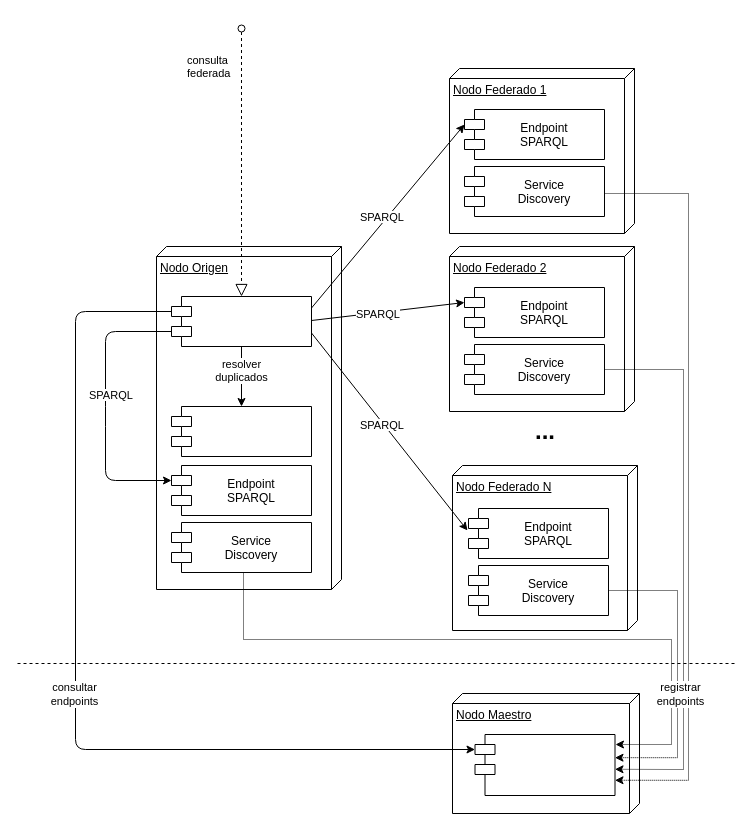
This 756x831 diagram has some shape labels left out. Each missing label, with the centre of its shape:
"Federación de consultas" belongs at (241,321).
"Librería de descubrimiento" belongs at (241,431).
"Service Discovery Controller" belongs at (544,765).
